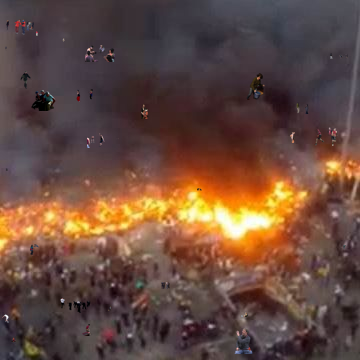Human: (245, 73, 265, 100), (1, 19, 34, 35), (60, 296, 91, 313), (31, 90, 56, 111), (311, 127, 338, 146), (85, 45, 115, 62), (87, 133, 120, 148), (234, 328, 253, 354), (73, 89, 93, 102), (20, 71, 31, 89), (296, 102, 309, 114), (82, 324, 94, 336), (141, 104, 149, 119), (285, 132, 295, 143), (330, 53, 348, 59), (30, 244, 39, 255), (161, 281, 170, 289), (2, 314, 9, 323), (241, 312, 248, 317), (108, 306, 112, 314), (11, 337, 16, 342), (343, 244, 346, 249), (197, 188, 202, 191), (105, 354, 108, 358), (62, 38, 65, 42), (5, 167, 8, 171), (5, 46, 7, 51), (86, 210, 88, 215), (36, 31, 38, 36)
